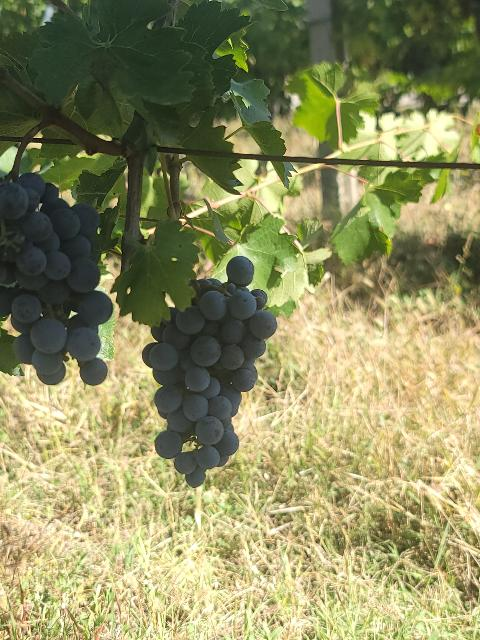grapes: (142, 256, 278, 488), (0, 172, 114, 385)
